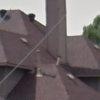Chimney: (39, 2, 79, 63)
